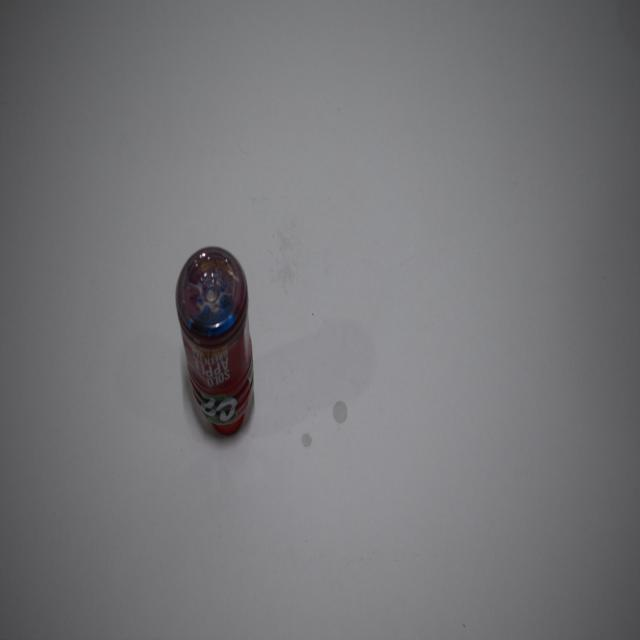bottle: (172, 236, 255, 454)
